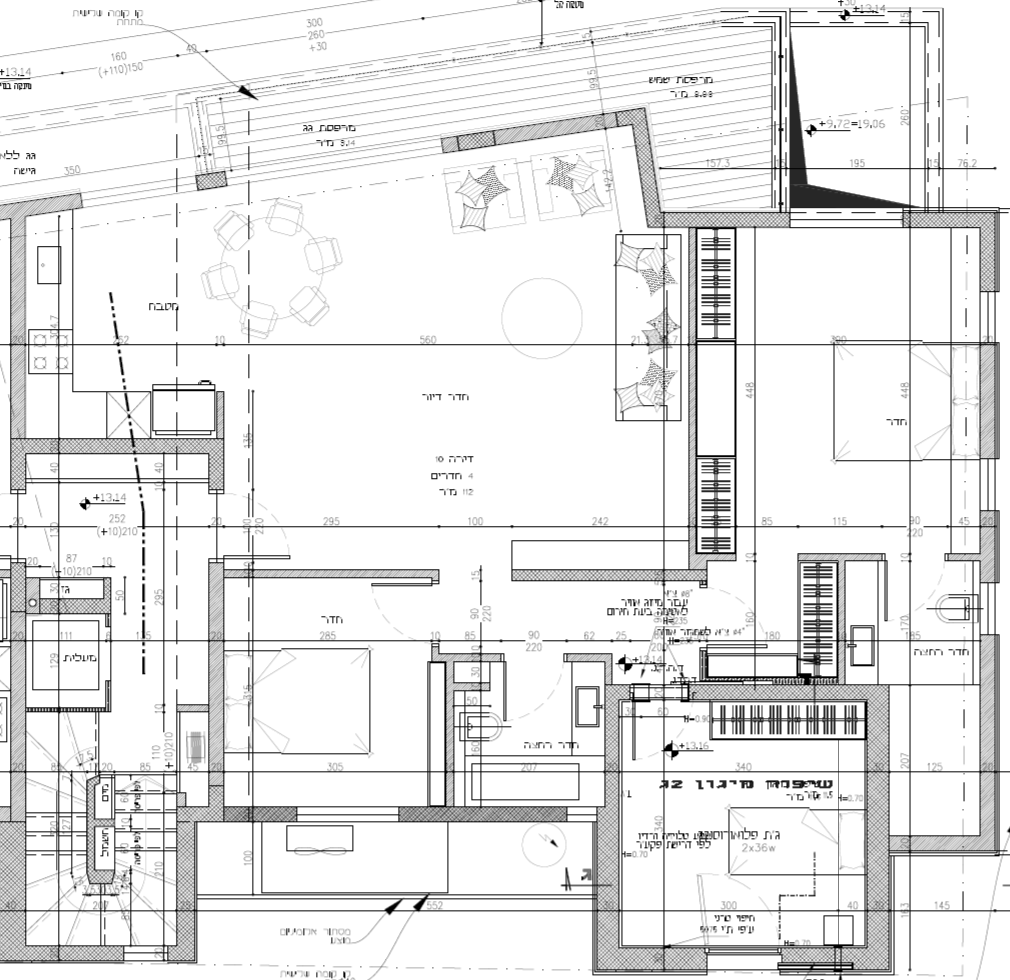wall: (864, 701, 890, 967), (10, 217, 27, 489), (980, 635, 999, 853), (207, 561, 222, 786), (26, 437, 223, 454), (688, 684, 890, 700), (598, 805, 621, 945), (595, 946, 706, 971), (11, 611, 24, 821), (399, 806, 567, 822), (511, 568, 706, 580), (664, 211, 791, 227), (223, 568, 438, 577), (888, 836, 997, 852), (903, 211, 998, 228), (224, 807, 295, 822), (207, 456, 225, 491)
window: (705, 945, 781, 973), (296, 806, 399, 823), (979, 582, 998, 635), (979, 458, 998, 511), (977, 290, 996, 343), (123, 946, 168, 962), (565, 805, 597, 821)
